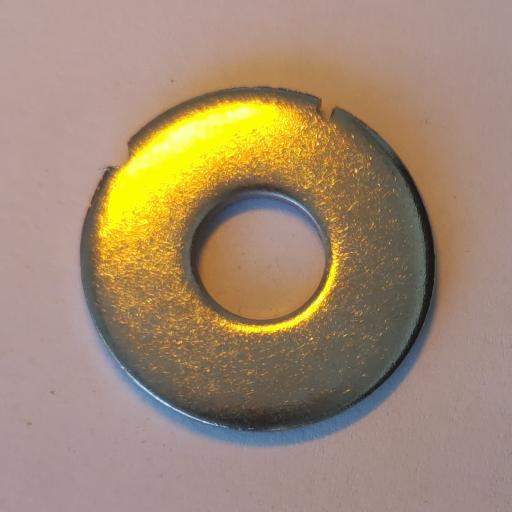burr: (108, 142, 131, 167), (316, 100, 336, 122)
